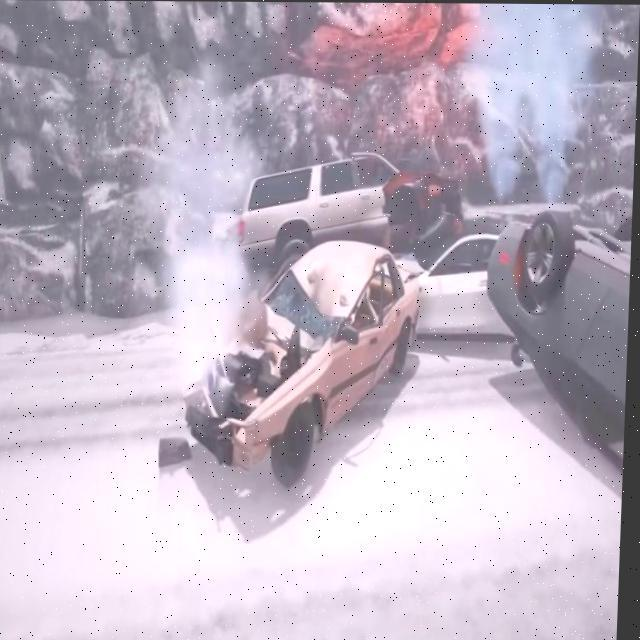multiple_accident: (100, 75, 640, 466)
